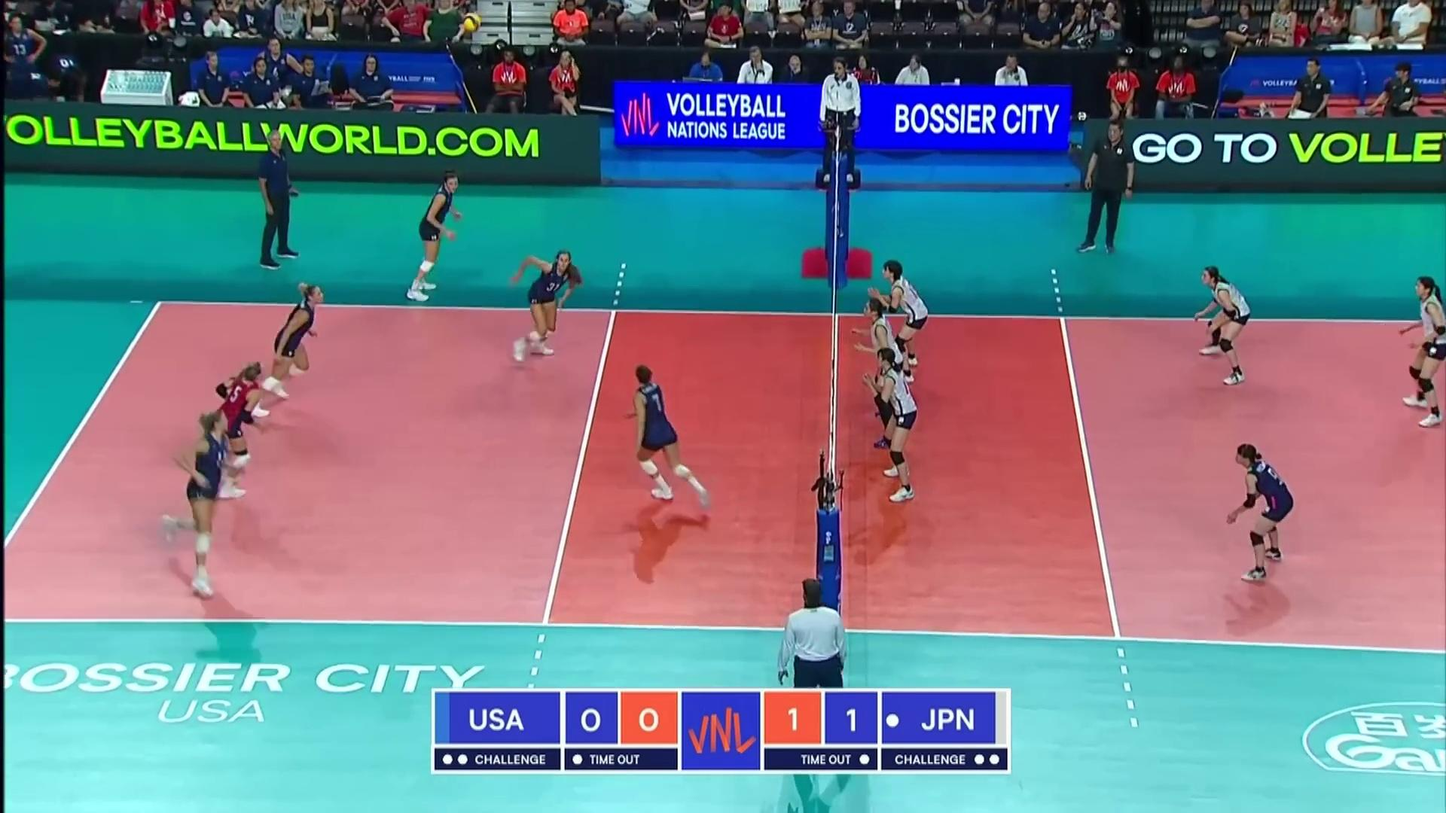player: (155, 410, 234, 597), (625, 366, 710, 514), (240, 281, 324, 415), (1228, 444, 1300, 578), (207, 360, 267, 501), (514, 250, 585, 365), (864, 347, 916, 500), (1191, 269, 1254, 388), (861, 300, 911, 448), (411, 169, 464, 303), (869, 261, 928, 378), (1400, 279, 1446, 423)
refree: (777, 576, 850, 689), (815, 61, 862, 184)
